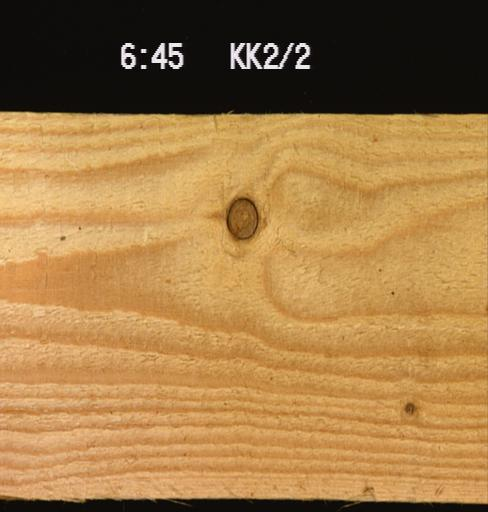dry_knot: (224, 195, 260, 239)
small_knot: (399, 400, 417, 416)
